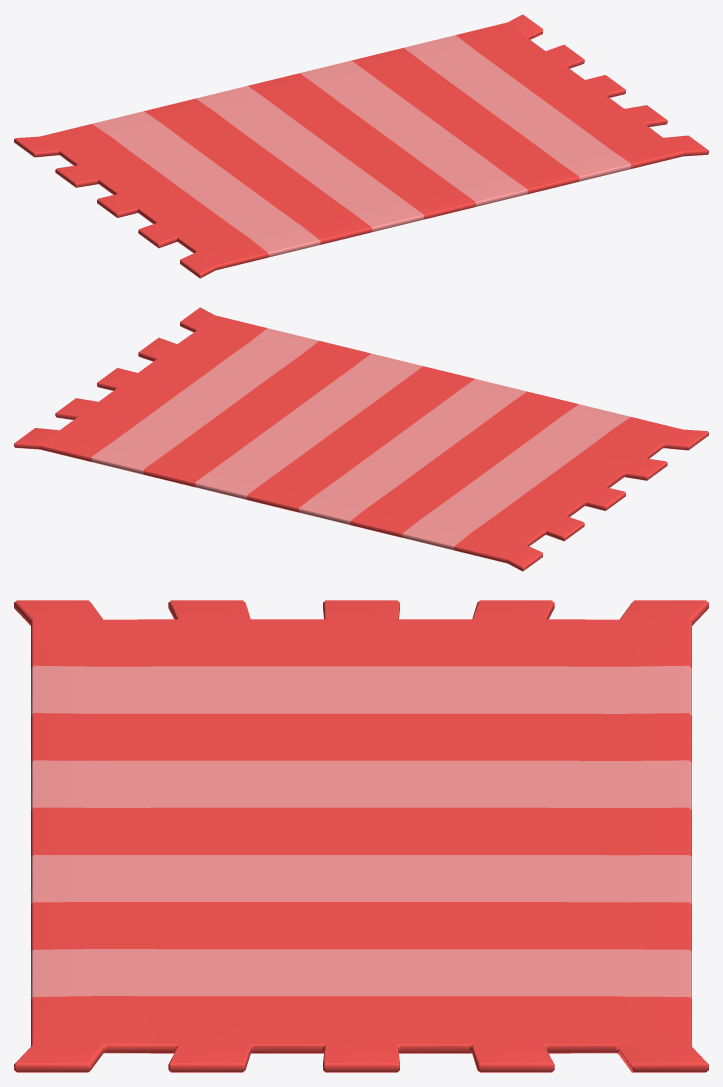
File: City_17_Carpet_1.glb
3 views of the same model, one above another, from view 1: azimuth 30°, elevation 25°; view 2: azimuth 150°, elevation 25°; view 3: azimuth 270°, elevation 25° (orthographic). The views are drawn at different scales.
Visible parts, largest first — view 1: City_17_Carpet_1; view 2: City_17_Carpet_1; view 3: City_17_Carpet_1.
Part boxes in pixels (bbox=[...]): City_17_Carpet_1: bbox=[14, 14, 708, 278]; City_17_Carpet_1: bbox=[14, 307, 708, 571]; City_17_Carpet_1: bbox=[14, 600, 708, 1072].
Size of the model in its own units: 1.8 by 0.0183 by 1.14.
1 material, 1 textured.
